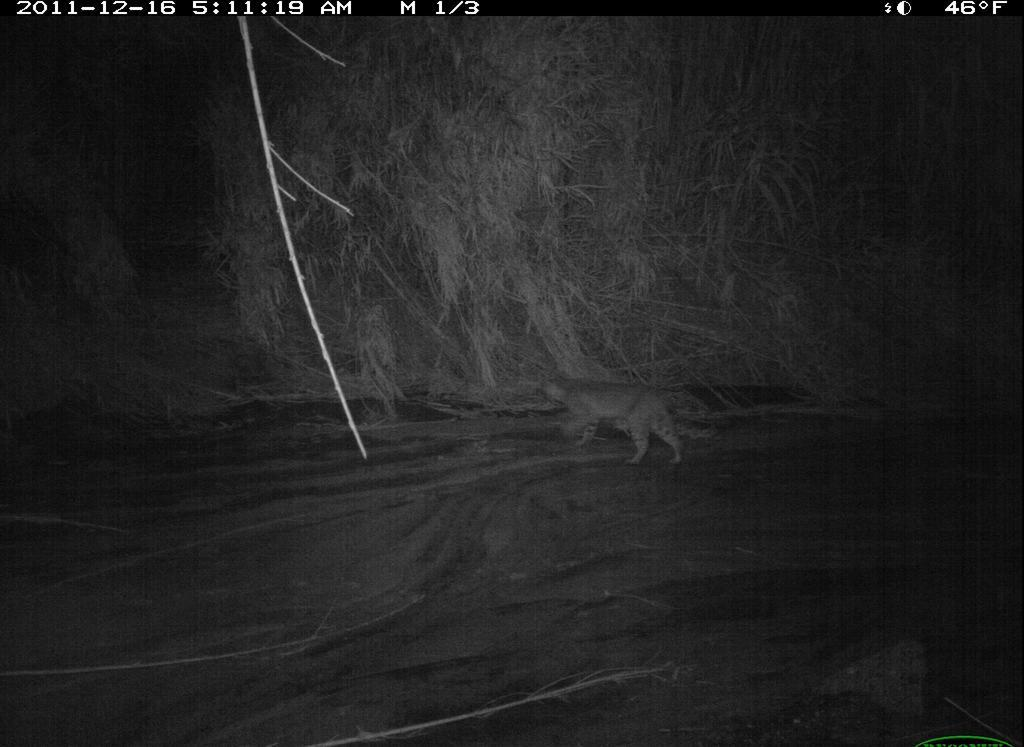bobcat: (533, 359, 712, 475)
